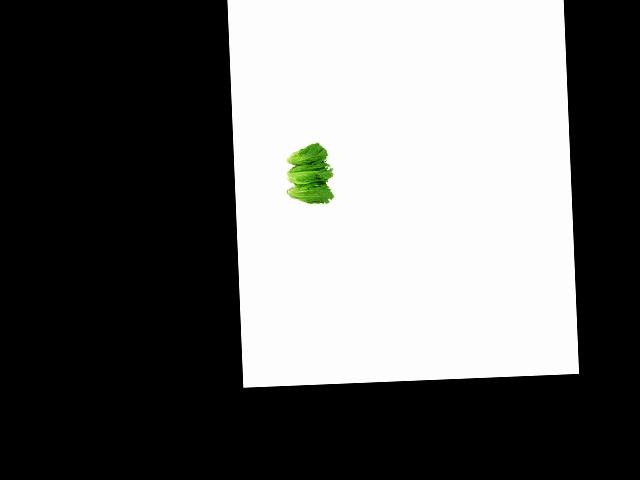lettuce: (276, 142, 329, 169)
